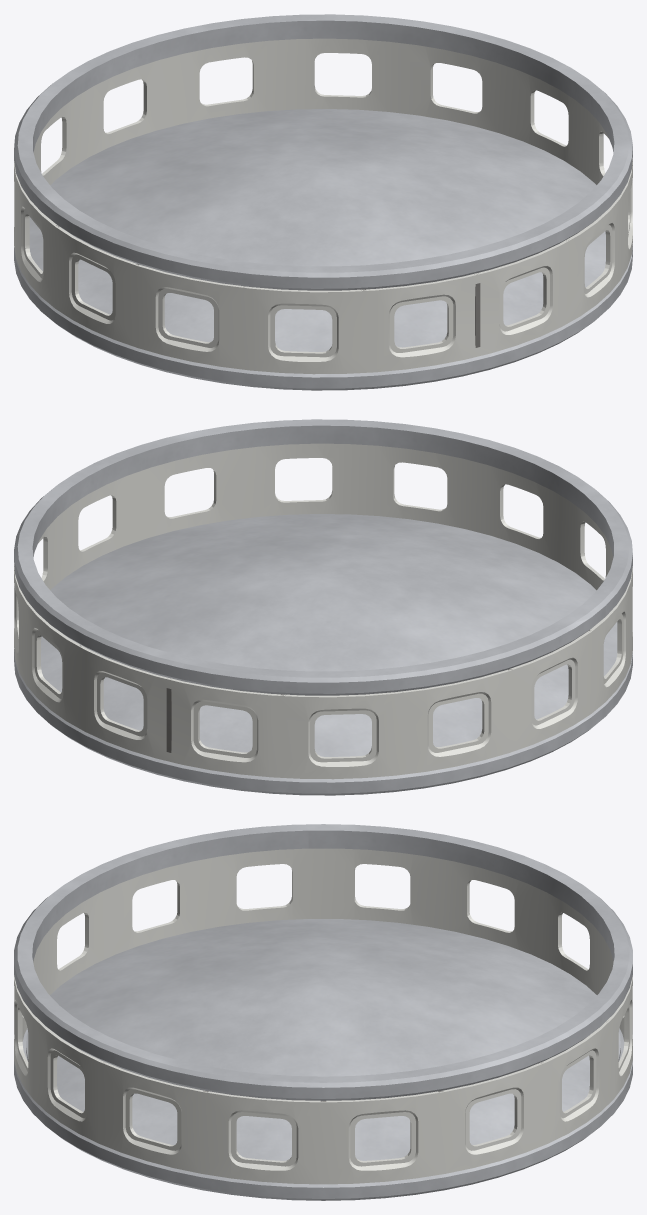
File: ax_struct_07_hot_staging_ring_xl.glb
3 renders of one model, top to bottom at view 1: azimuth 30°, elevation 25°; view 2: azimuth 150°, elevation 25°; view 3: azimuth 270°, elevation 25°, orthographic.
Visible parts, largest first — view 1: blast_deflector, vented_barrel, interface_rings; view 2: blast_deflector, vented_barrel, interface_rings; view 3: blast_deflector, vented_barrel, interface_rings.
Boxes of the visible parts, x1=… form: blast_deflector: x1=29, y1=109, x2=605, y2=351; vented_barrel: x1=14, y1=38, x2=632, y2=374; interface_rings: x1=14, y1=14, x2=632, y2=390; blast_deflector: x1=41, y1=514, x2=617, y2=756; vented_barrel: x1=14, y1=443, x2=632, y2=779; interface_rings: x1=14, y1=419, x2=632, y2=795; blast_deflector: x1=26, y1=919, x2=620, y2=1160; vented_barrel: x1=14, y1=848, x2=632, y2=1184; interface_rings: x1=14, y1=824, x2=632, y2=1200.
Size of the model in its own units: 5 by 1.05 by 4.99.
3 materials, 2 textured.
